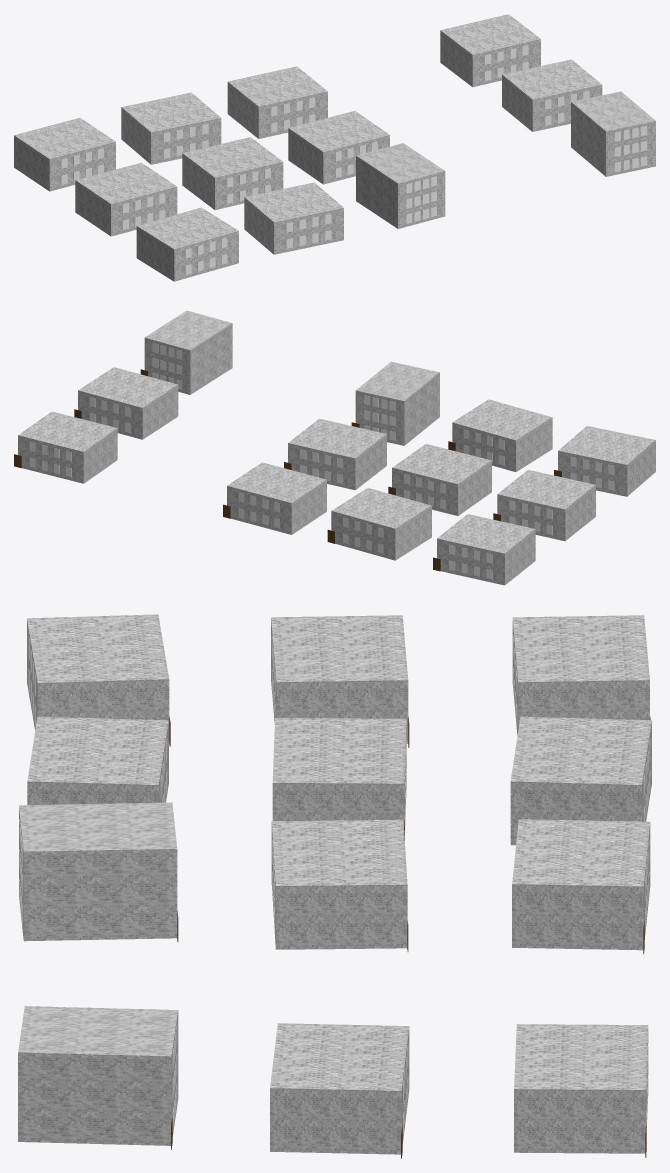
Rendered from bld_mlmqv89z_pd0gqgi.glb.
3 renders of one model, top to bottom at view 1: azimuth 30°, elevation 25°; view 2: azimuth 150°, elevation 25°; view 3: azimuth 270°, elevation 25°, orthographic. The views are drawn at different scales.
Visible parts, largest first — view 1: building-building-1771099420560-12, building-building-1771099420560-10, building-building-1771099420560-14, building-building-1771099420560-11, building-building-1771099420560-5, building-building-1771099420560-0, building-building-1771099420560-6, building-building-1771099420560-2, building-building-1771099420560-4, building-building-1771099420560-1, building-building-1771099420560-7, building-building-1771099420560-9; view 2: building-building-1771099420560-14, building-building-1771099420560-1, building-building-1771099420560-2, building-building-1771099420560-4, building-building-1771099420560-0, building-building-1771099420560-11, building-building-1771099420560-9, building-building-1771099420560-12, building-building-1771099420560-6, building-building-1771099420560-5, building-building-1771099420560-7, building-building-1771099420560-10; view 3: building-building-1771099420560-14, building-building-1771099420560-12, building-building-1771099420560-9, building-building-1771099420560-2, building-building-1771099420560-7, building-building-1771099420560-4, building-building-1771099420560-1, building-building-1771099420560-10, building-building-1771099420560-5, building-building-1771099420560-0, building-building-1771099420560-6, building-building-1771099420560-11.
Boxes of the visible parts, bbox=[...] form: building-building-1771099420560-12: bbox=[356, 143, 445, 228]; building-building-1771099420560-10: bbox=[136, 207, 238, 281]; building-building-1771099420560-14: bbox=[571, 91, 655, 176]; building-building-1771099420560-11: bbox=[244, 182, 343, 254]; building-building-1771099420560-5: bbox=[75, 162, 177, 236]; building-building-1771099420560-0: bbox=[14, 118, 115, 191]; building-building-1771099420560-6: bbox=[182, 137, 283, 209]; building-building-1771099420560-2: bbox=[227, 66, 327, 138]; building-building-1771099420560-4: bbox=[440, 14, 540, 87]; building-building-1771099420560-1: bbox=[121, 92, 221, 164]; building-building-1771099420560-7: bbox=[288, 111, 389, 184]; building-building-1771099420560-9: bbox=[502, 59, 602, 131]; building-building-1771099420560-14: bbox=[140, 310, 232, 394]; building-building-1771099420560-1: bbox=[327, 488, 431, 560]; building-building-1771099420560-2: bbox=[223, 462, 326, 534]; building-building-1771099420560-4: bbox=[14, 411, 117, 483]; building-building-1771099420560-0: bbox=[433, 514, 535, 585]; building-building-1771099420560-11: bbox=[448, 399, 552, 471]; building-building-1771099420560-9: bbox=[74, 367, 178, 439]; building-building-1771099420560-12: bbox=[351, 361, 439, 445]; building-building-1771099420560-6: bbox=[388, 444, 491, 515]; building-building-1771099420560-5: bbox=[493, 469, 595, 541]; building-building-1771099420560-7: bbox=[284, 418, 386, 490]; building-building-1771099420560-10: bbox=[554, 426, 655, 496]; building-building-1771099420560-14: bbox=[18, 1006, 178, 1149]; building-building-1771099420560-12: bbox=[19, 802, 178, 941]; building-building-1771099420560-9: bbox=[270, 1023, 409, 1158]; building-building-1771099420560-2: bbox=[512, 819, 650, 954]; building-building-1771099420560-7: bbox=[271, 819, 408, 951]; building-building-1771099420560-4: bbox=[514, 1024, 648, 1157]; building-building-1771099420560-1: bbox=[510, 716, 651, 845]; building-building-1771099420560-10: bbox=[27, 614, 170, 746]; building-building-1771099420560-5: bbox=[271, 615, 409, 747]; building-building-1771099420560-0: bbox=[512, 615, 650, 735]; building-building-1771099420560-6: bbox=[272, 718, 406, 840]; building-building-1771099420560-11: bbox=[27, 716, 168, 804].
Bounding box in the file's own units: 104 × 9.03 × 57.73.
60 materials, 12 textured.
